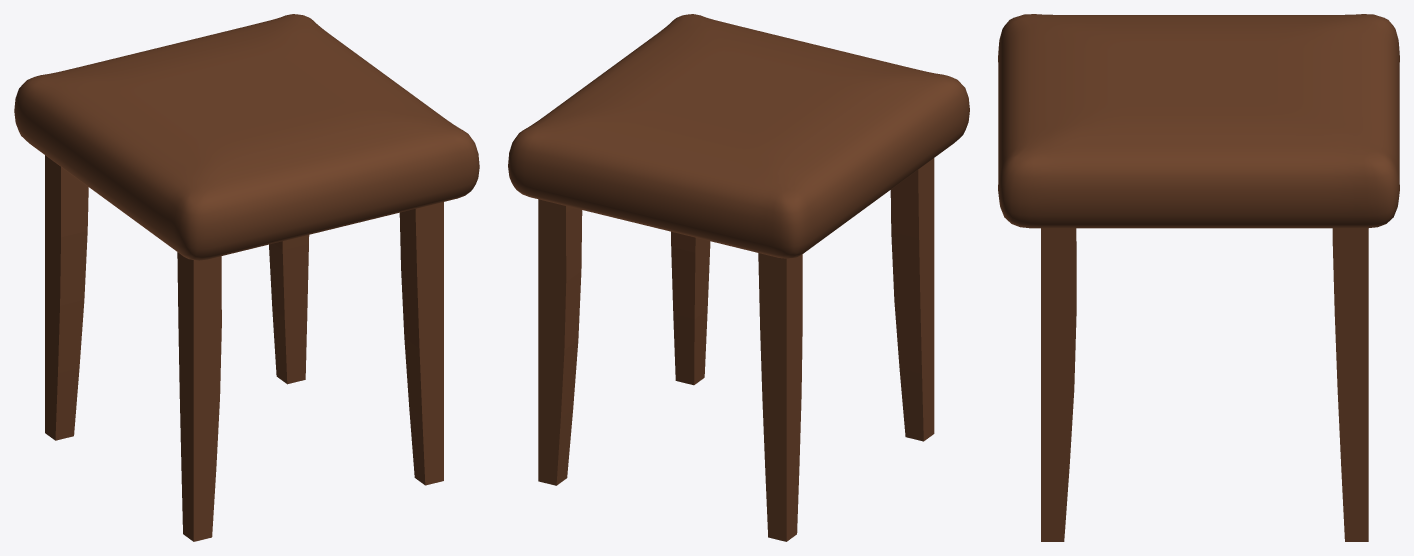
The model's file is Tabouret6_6.fbx.
3 views of the same model, side by side, from view 1: azimuth 30°, elevation 25°; view 2: azimuth 150°, elevation 25°; view 3: azimuth 270°, elevation 25° (orthographic). The views are drawn at different scales.
Parts seen in each view (by area): view 1: pCube2647, polySurface996, polySurface994, polySurface995, polySurface993; view 2: pCube2647, polySurface995, polySurface993, polySurface996, polySurface994; view 3: pCube2647, polySurface994, polySurface993.
Boxes of the visible parts, box(x1,y1,x2,y2) form: pCube2647: box(14, 14, 479, 260); polySurface996: box(177, 252, 221, 541); polySurface994: box(399, 202, 443, 485); polySurface995: box(45, 155, 88, 440); polySurface993: box(269, 235, 309, 384); pCube2647: box(508, 14, 969, 258); polySurface995: box(758, 253, 802, 541); polySurface993: box(538, 199, 582, 485); polySurface996: box(890, 158, 934, 441); polySurface994: box(671, 231, 710, 385); pCube2647: box(998, 14, 1399, 228); polySurface994: box(1041, 228, 1076, 541); polySurface993: box(1332, 228, 1368, 541).
Size of the model in its own units: 38.55 by 44.75 by 40.86.
